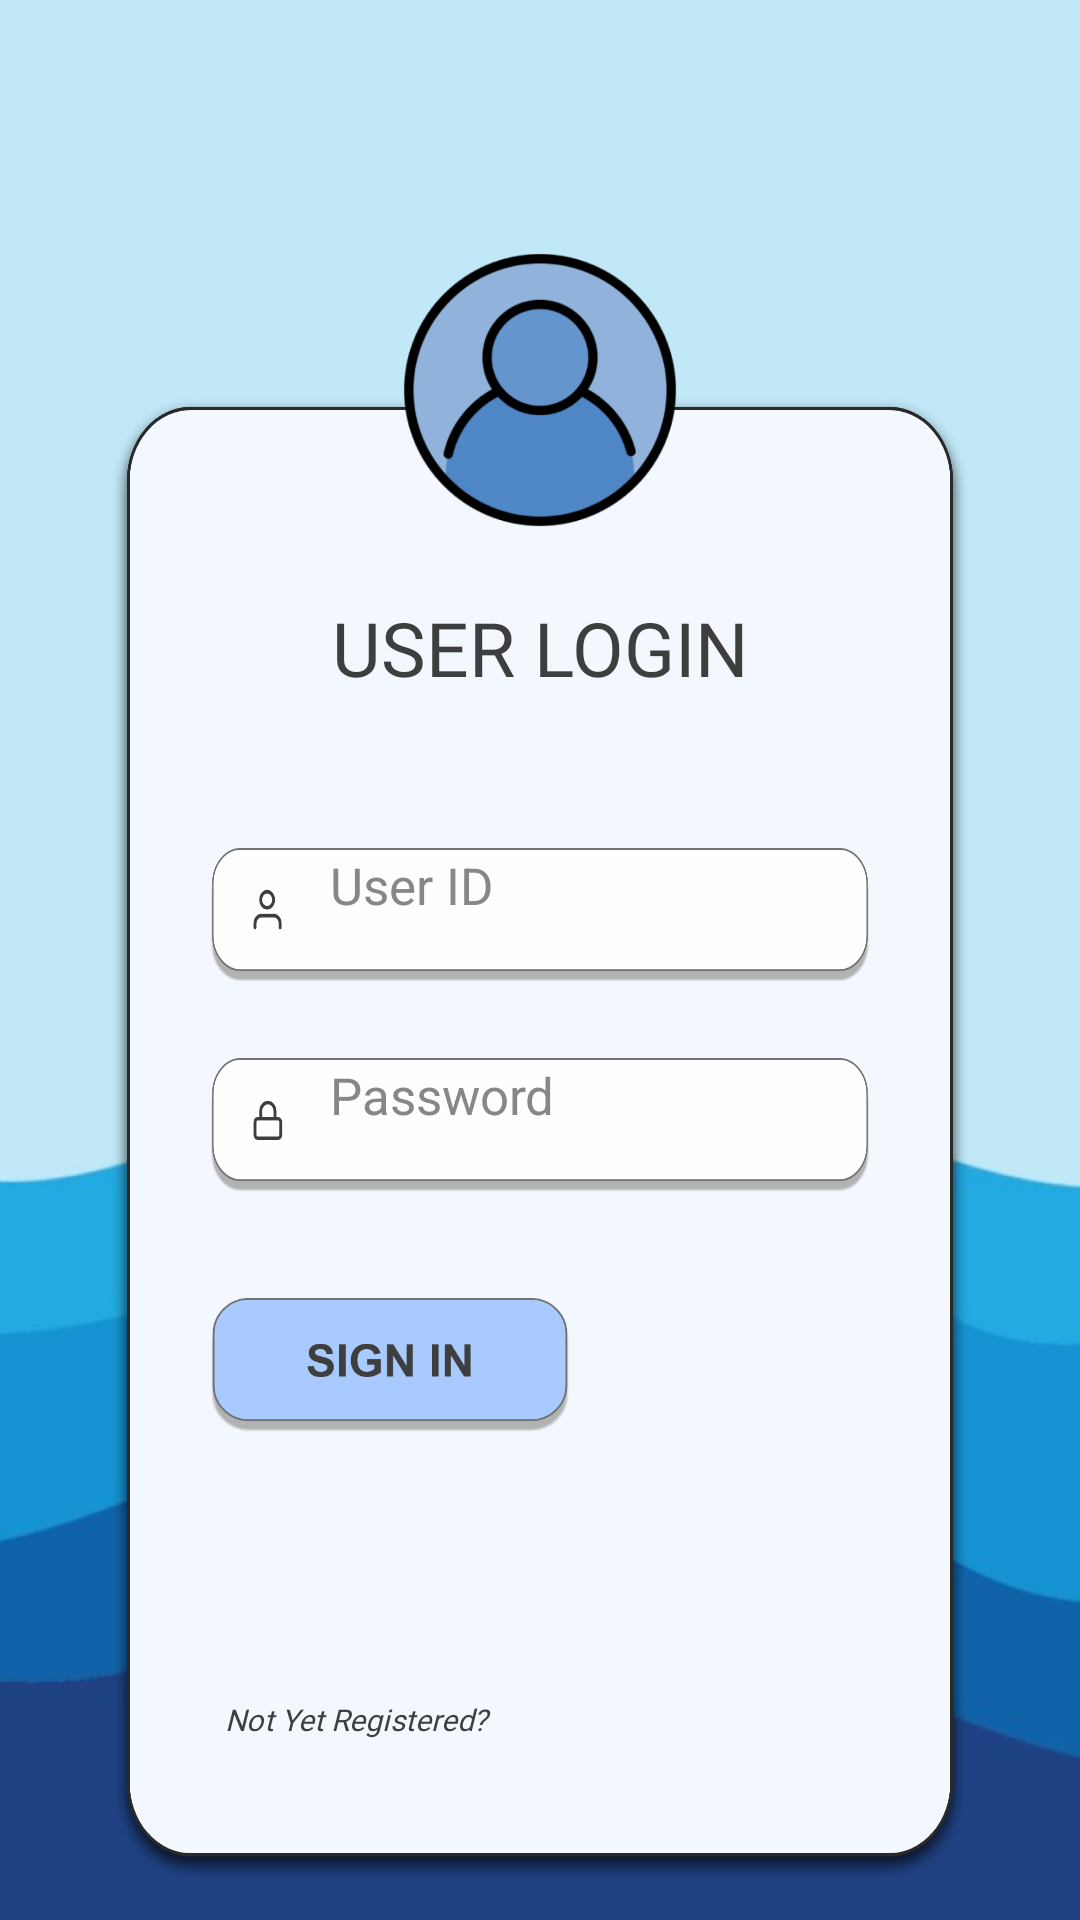

Point at icon controls on the screen. Image size 1080*1920, points as (x=x, y=y).
imageavatar: (x=540, y=390)
